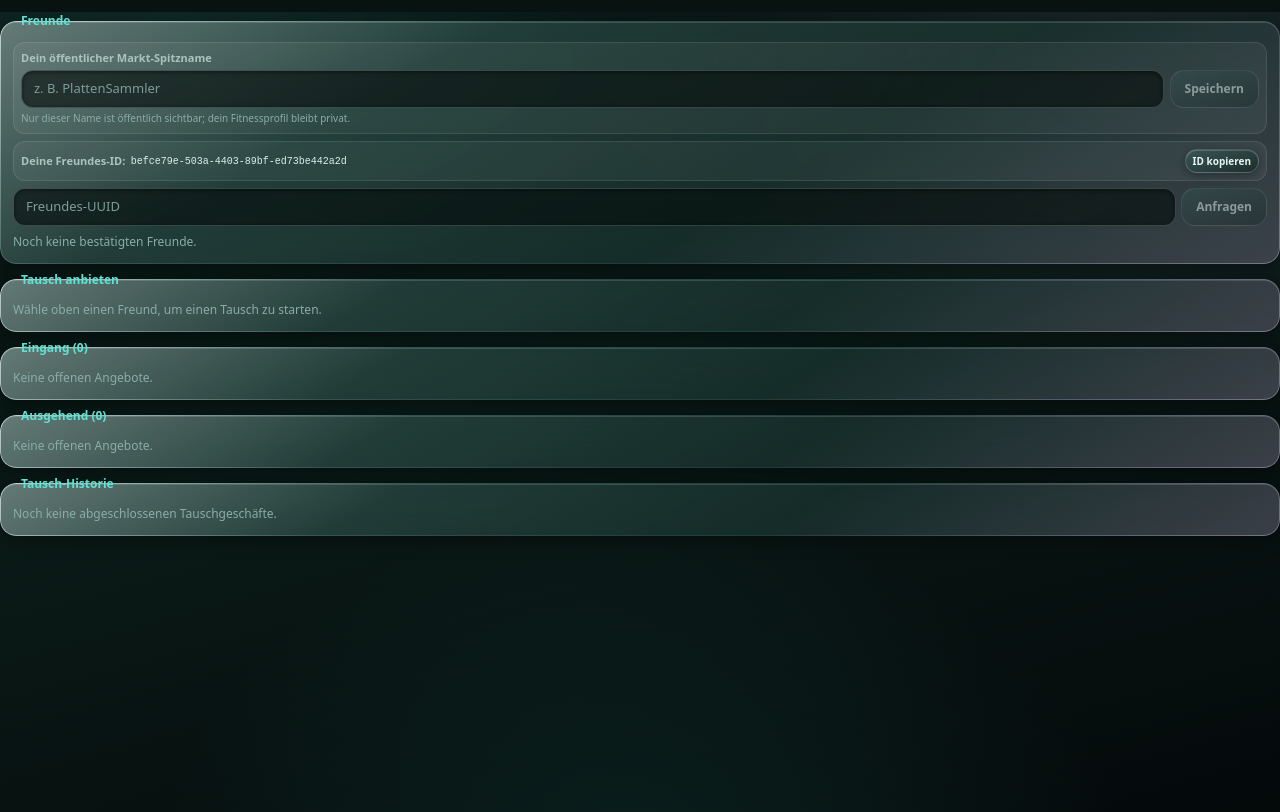
Test case: Freunde- und Marktoberfläche › zeigt die eigene UUID an und kopiert sie auf Knopfdruck
The image size is (1280, 812).
Check: the text "befce79e-503a-4403-89bf-ed73be442a2d" is shown, box [131,156,347,166]
Click the button "ID kopieren" at (1222, 161), box [1185,149,1259,173]
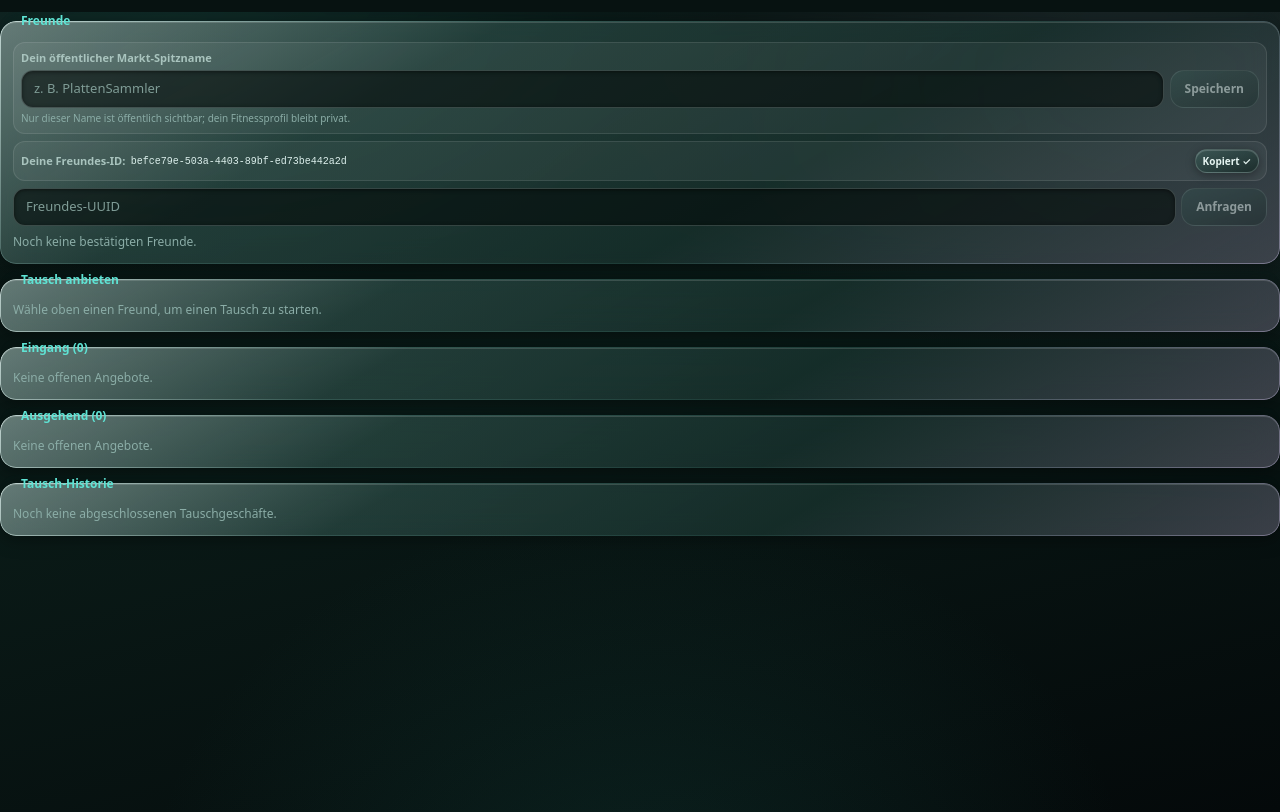
Check: the button "Kopiert ✓" is shown, box [1195,149,1259,173]
